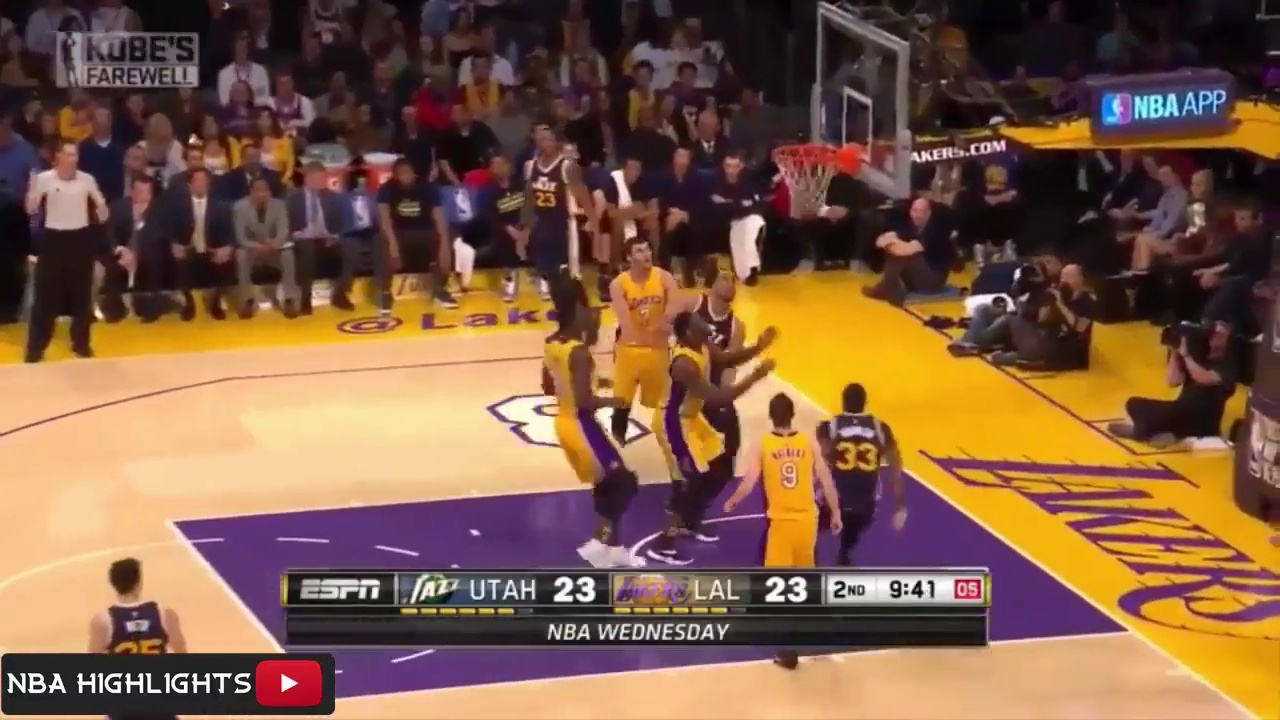jazz: (519, 122, 609, 315), (815, 372, 901, 562), (100, 540, 184, 720), (691, 271, 748, 404)
lakers: (523, 294, 646, 568), (737, 388, 834, 587), (607, 237, 684, 457), (662, 315, 730, 558)
